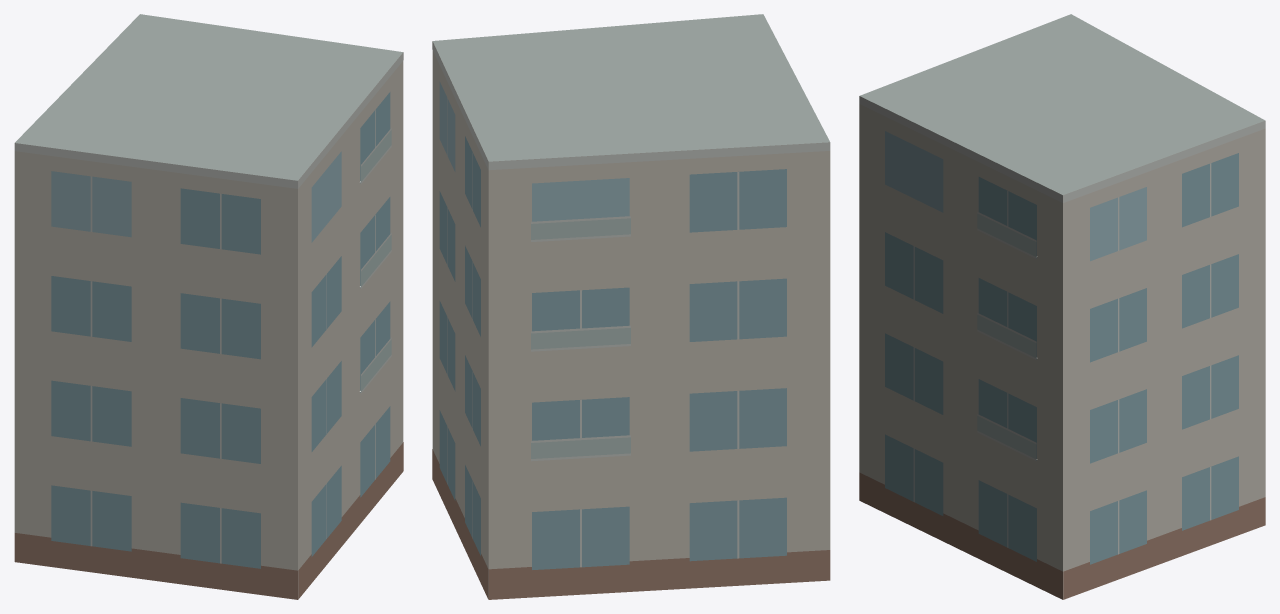
File: survey-upis-32936924.glb
3 views of the same model, side by side, from view 1: azimuth 30°, elevation 25°; view 2: azimuth 150°, elevation 25°; view 3: azimuth 270°, elevation 25° (orthographic). The views are drawn at different scales.
Parts seen in each view (by area): view 1: survey-upis-32936924.tmp; view 2: survey-upis-32936924.tmp; view 3: survey-upis-32936924.tmp.
Boxes of the visible parts, left/top/right/bottom form: survey-upis-32936924.tmp: left=14, top=14, right=403, bottom=599; survey-upis-32936924.tmp: left=432, top=14, right=830, bottom=599; survey-upis-32936924.tmp: left=859, top=14, right=1265, bottom=599.
Bounding box in the file's own units: 12.02 × 12.5 × 11.38.
